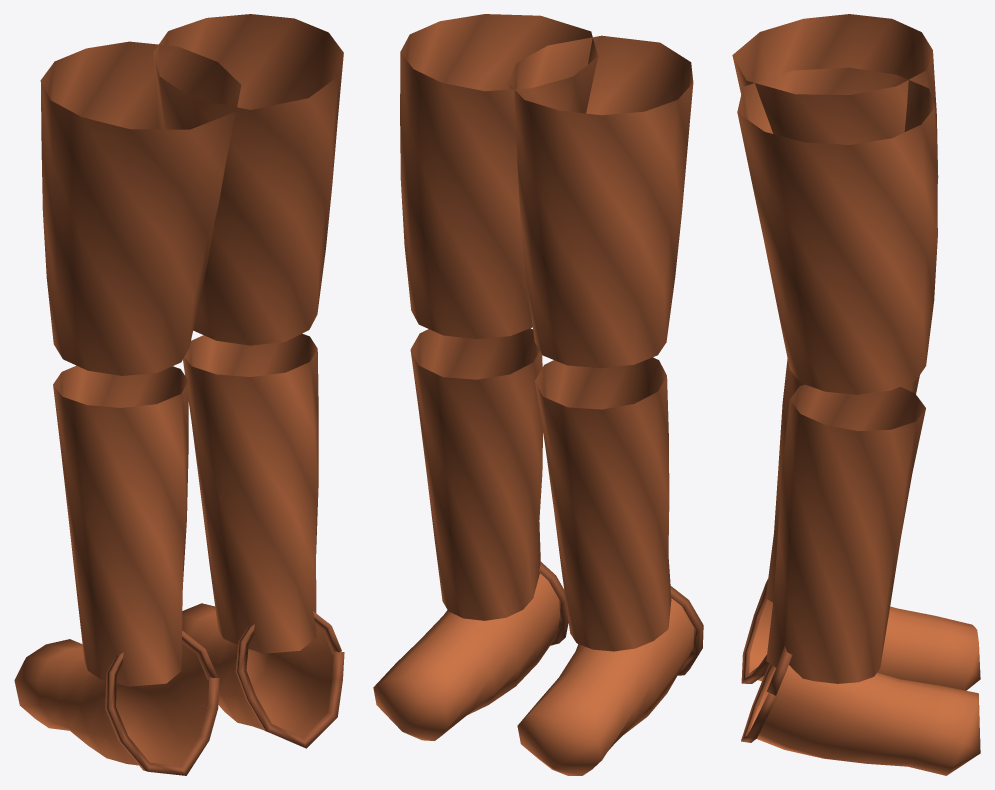
The model's file is copper_greaves.glb.
3 views of the same model, side by side, from view 1: azimuth 30°, elevation 25°; view 2: azimuth 150°, elevation 25°; view 3: azimuth 270°, elevation 25° (orthographic). The views are drawn at different scales.
Visible parts, largest first — view 1: copper_greaves_cuisse.L; view 2: copper_greaves_cuisse.L; view 3: copper_greaves_cuisse.L.
Boxes of the visible parts, x1,y1,x2,y2 form: copper_greaves_cuisse.L: (14, 14, 344, 775); copper_greaves_cuisse.L: (373, 14, 703, 775); copper_greaves_cuisse.L: (732, 14, 980, 775).
Size of the model in its own units: 0.4048 by 0.9485 by 0.324.
